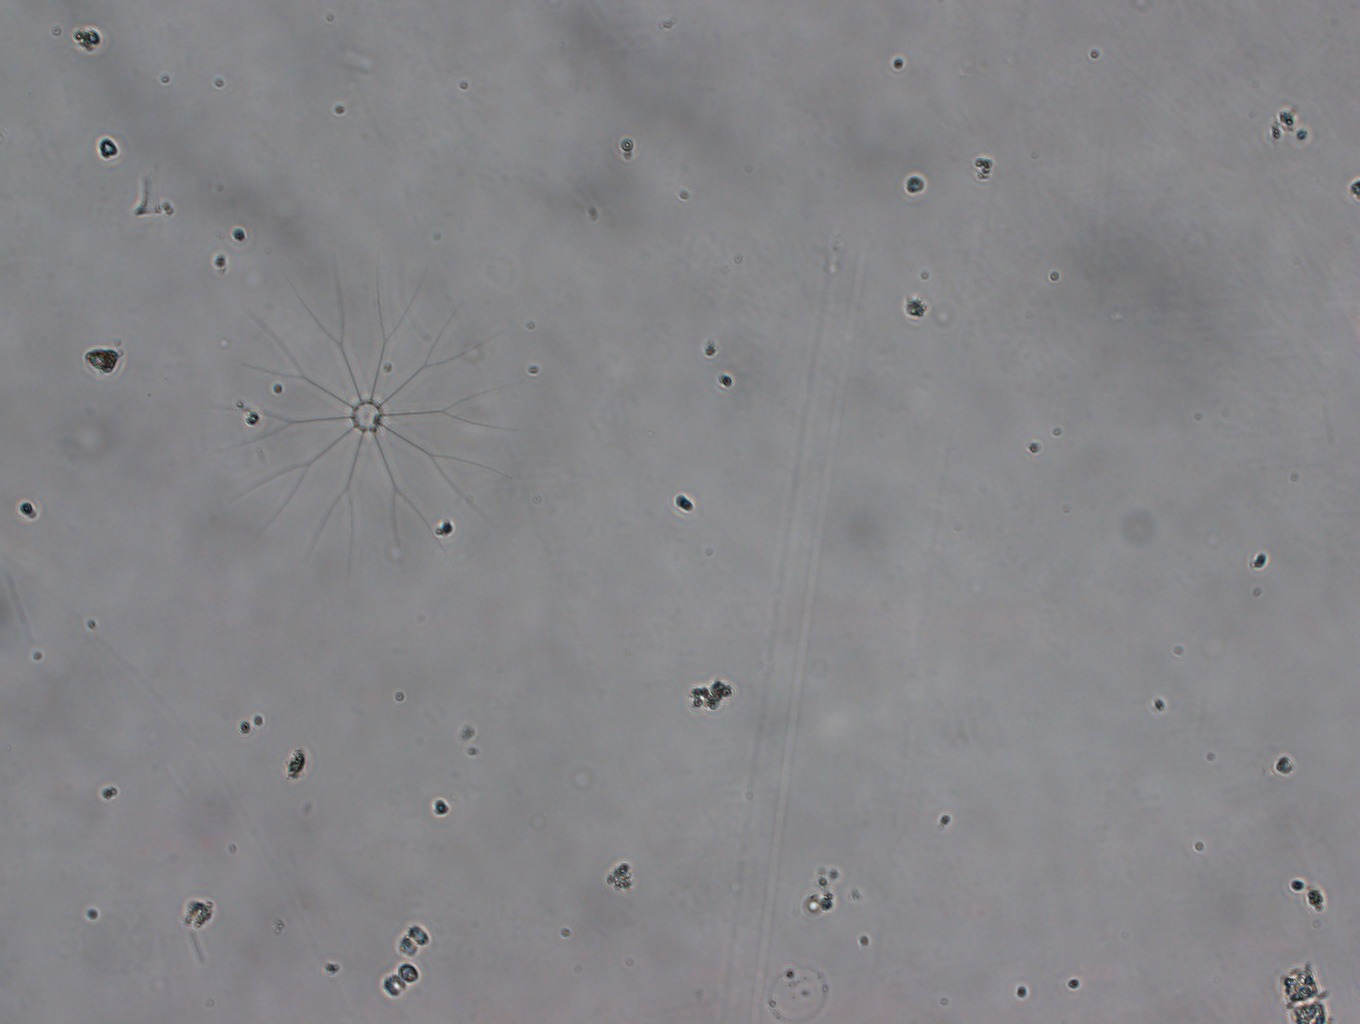bacteriastrum: (209, 248, 525, 575)
